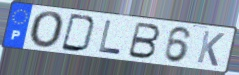6: (163, 25, 192, 64)
B: (125, 21, 162, 60)
D: (60, 12, 99, 54)
K: (195, 29, 227, 68)
L: (97, 18, 122, 56)
O: (29, 10, 67, 51)
